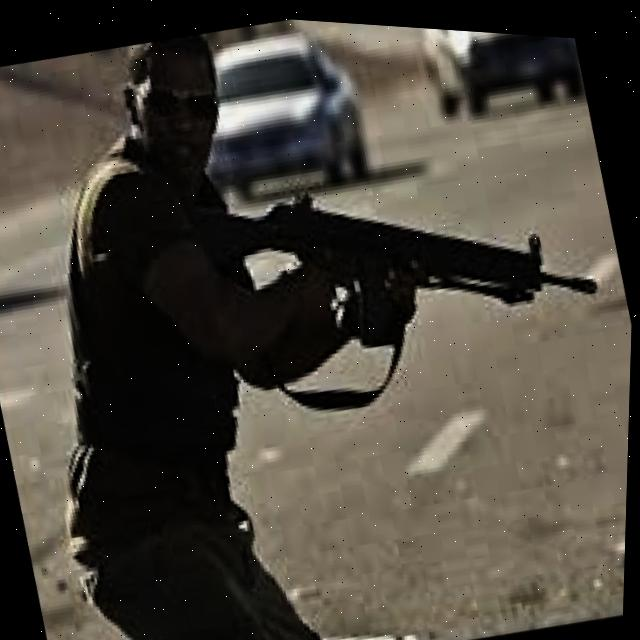firearm: (180, 116, 606, 388)
